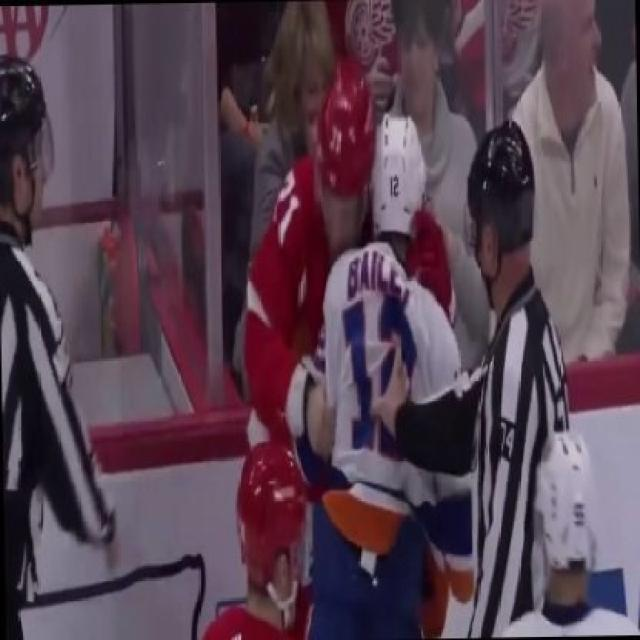fight: (237, 59, 486, 640)
non-fight: (455, 122, 576, 640)
